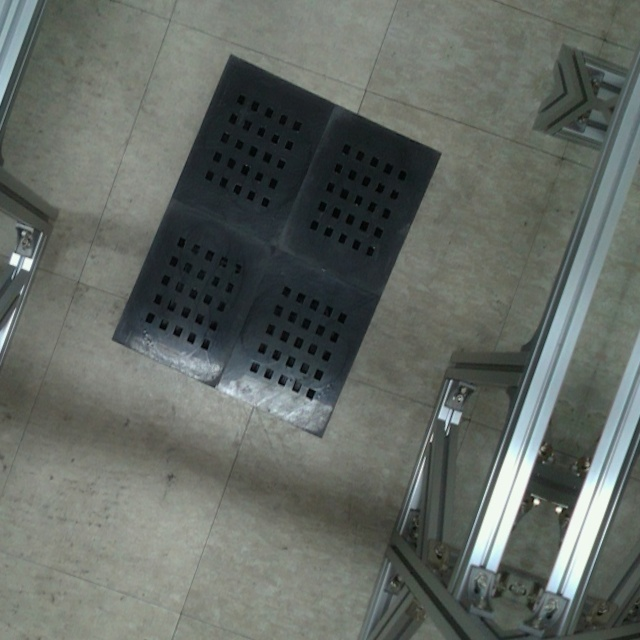pallet: (97, 36, 457, 444)
